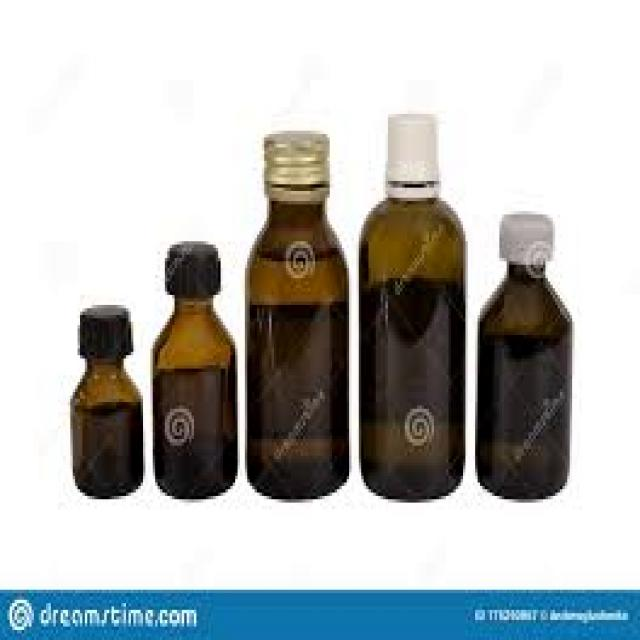Glass: (353, 109, 470, 502), (242, 125, 354, 502), (474, 210, 577, 503), (150, 239, 240, 496), (67, 302, 148, 499)
